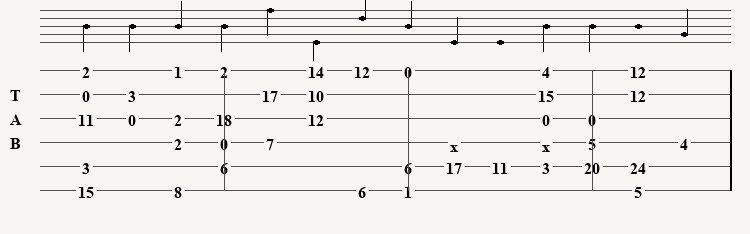0: (82, 87, 94, 102), (128, 111, 140, 126), (220, 135, 232, 150), (404, 63, 416, 78), (542, 111, 554, 126), (588, 111, 600, 126)
1: (174, 63, 186, 78), (404, 183, 416, 198)
10: (308, 87, 328, 102)
11: (78, 111, 98, 126), (492, 159, 512, 174)
12: (308, 111, 328, 126), (354, 63, 374, 78), (630, 63, 650, 78), (630, 87, 650, 102)
14: (308, 63, 328, 78)
15: (78, 183, 98, 198), (538, 87, 558, 102)
17: (262, 87, 282, 102), (446, 159, 466, 174)
18: (216, 111, 236, 126)
2: (82, 63, 94, 78), (174, 111, 186, 126), (174, 135, 186, 150), (220, 63, 232, 78)
20: (584, 159, 604, 174)
24: (630, 159, 650, 174)
3: (82, 159, 94, 174), (128, 87, 140, 102), (542, 159, 554, 174)
4: (542, 63, 554, 78), (680, 135, 692, 150)
5: (588, 135, 600, 150), (634, 183, 646, 198)
6: (220, 159, 232, 174), (358, 183, 370, 198), (404, 159, 416, 174)
7: (266, 135, 278, 150)
8: (174, 183, 186, 198)
x: (450, 137, 462, 148), (542, 137, 554, 148)
